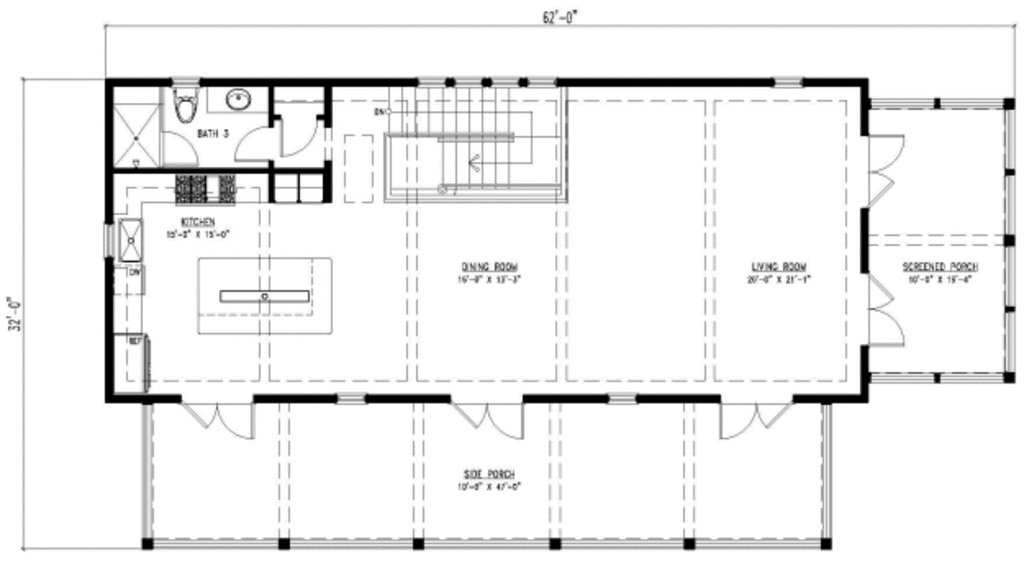door: (446, 394, 526, 441), (180, 396, 257, 441), (716, 395, 789, 441), (867, 273, 906, 347), (870, 131, 908, 202), (277, 114, 321, 159), (231, 124, 276, 166), (161, 128, 197, 171)
large_sink: (170, 88, 200, 124)
small_sink: (206, 84, 269, 113)
stairs: (380, 87, 561, 199)
windows: (414, 73, 568, 90), (329, 391, 372, 409), (769, 73, 809, 92), (599, 389, 640, 407)
